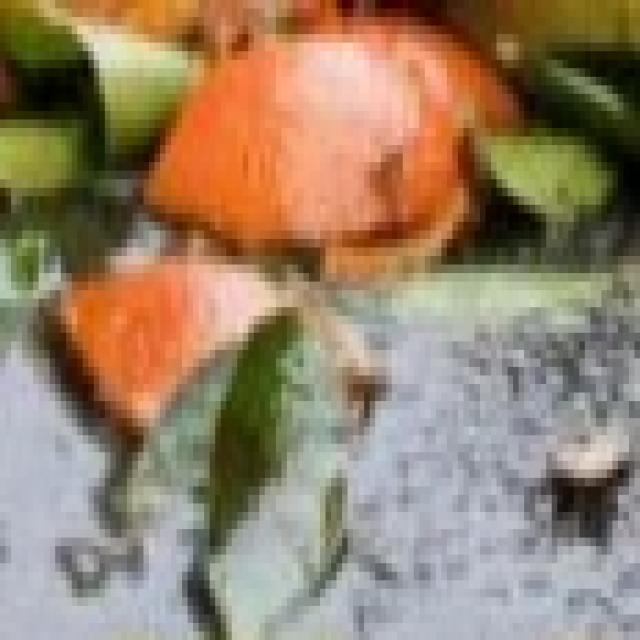food waste: (38, 0, 640, 535)
